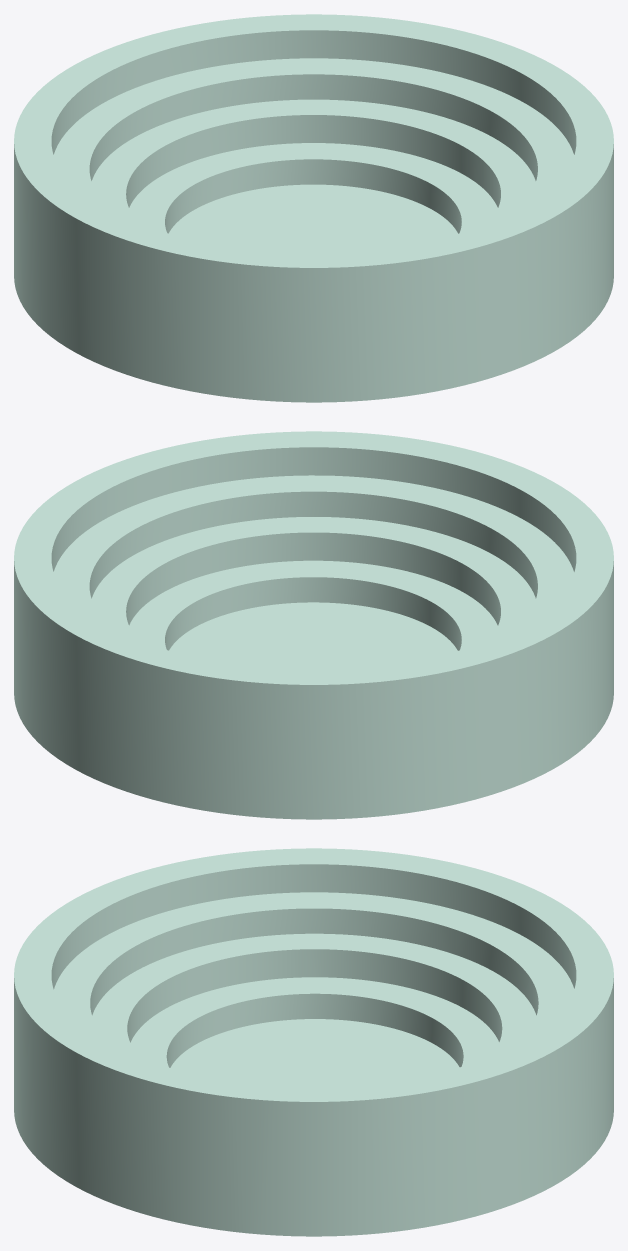
The picture shows the model from 3 angles, top to bottom: view 1: azimuth 30°, elevation 25°; view 2: azimuth 150°, elevation 25°; view 3: azimuth 270°, elevation 25°; orthographic projection.
Parts seen in each view (by area): view 1: Renderer Node; view 2: Renderer Node; view 3: Renderer Node.
Part boxes in pixels (box(x1,y1,x2,y2)): Renderer Node: box(14, 14, 613, 402); Renderer Node: box(14, 431, 613, 819); Renderer Node: box(14, 848, 613, 1236).
Size of the model in its own units: 1.52 by 0.375 by 1.52.
